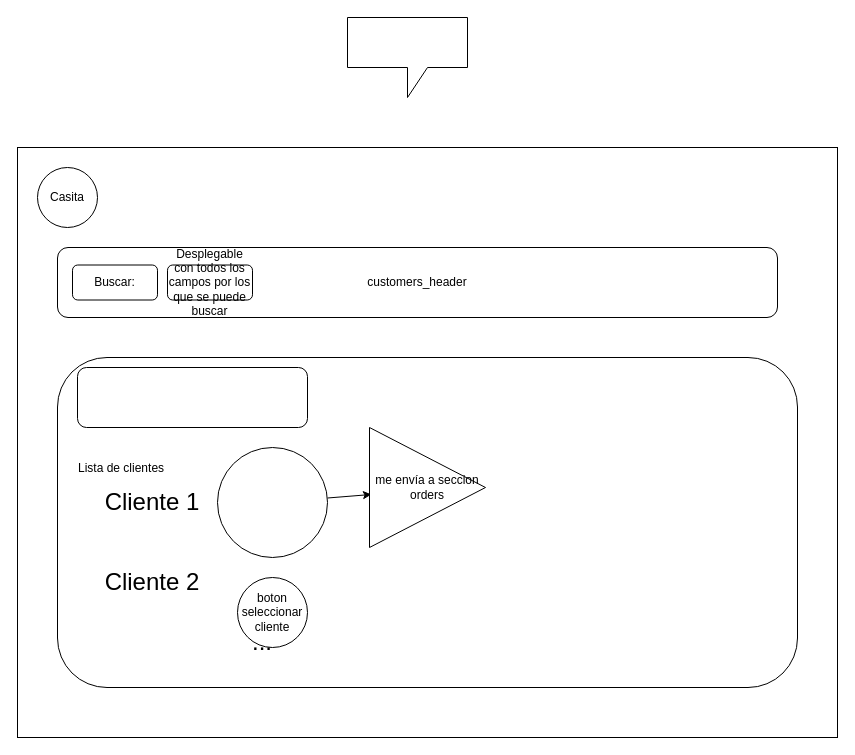
This 855x755 diagram has some shape labels left out. The shapes that lost their labels are listed below. From the top down, each one's centre as x and y in pixels, then its label:
At pixel 407 57: "ORDERS SECTION".
At pixel 192 397: "Buscador de clientes (igual que en artículos, todo tipo de busquedas)".
At pixel 272 502: "boton seleccionar cliente para generar orrden de pedido".
